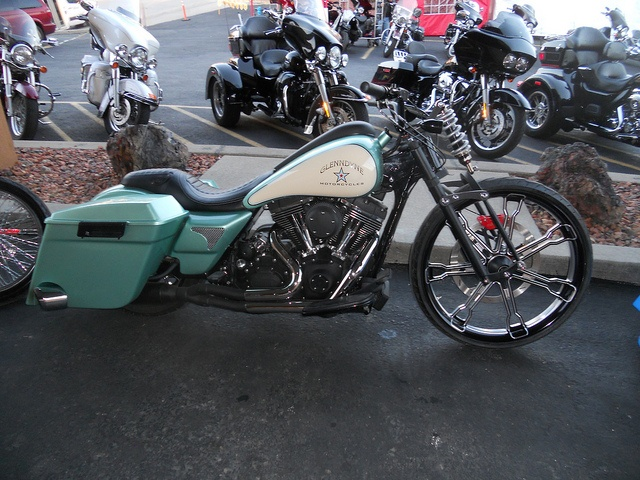car: (1, 0, 59, 40)
motorcycle: (30, 84, 620, 437), (204, 8, 577, 148), (78, 4, 242, 140), (0, 177, 56, 480), (323, 0, 640, 48), (379, 0, 640, 57), (0, 6, 62, 145)
